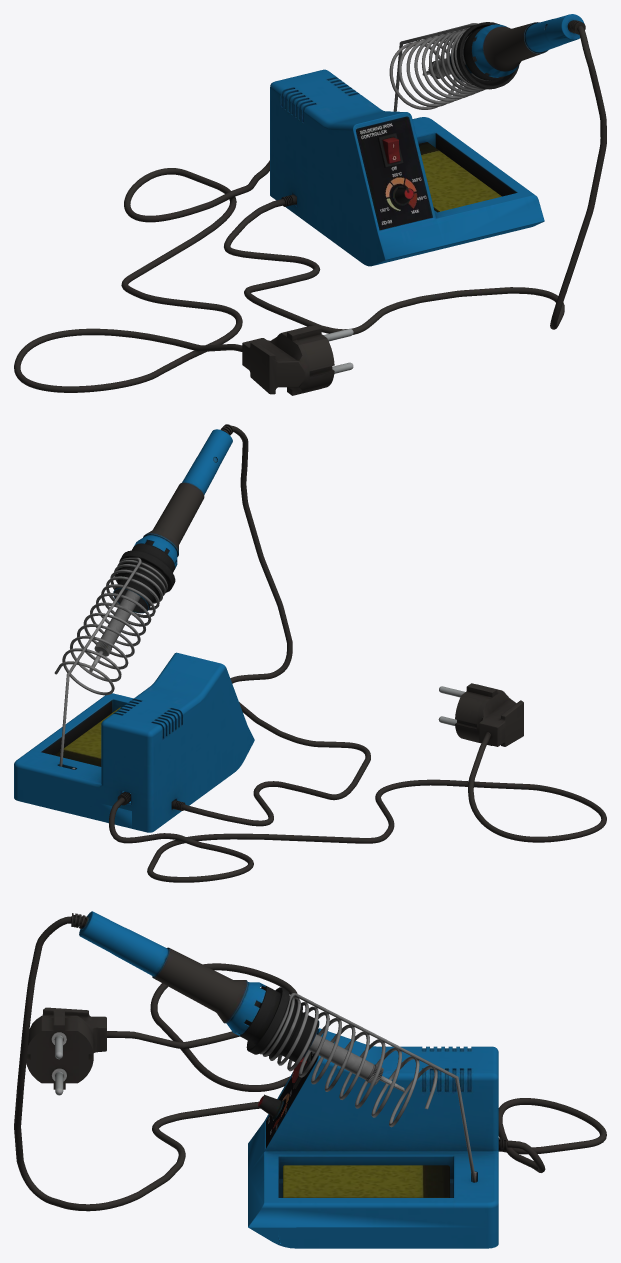
Rendered from soldering_iron_station.glb.
The picture shows the model from 3 angles, top to bottom: view 1: azimuth 30°, elevation 25°; view 2: azimuth 150°, elevation 25°; view 3: azimuth 270°, elevation 25°; orthographic projection. The views are drawn at different scales.
Visible parts, largest first — view 1: Object_2; view 2: Object_2; view 3: Object_2.
Boxes of the visible parts, x1,y1,x2,y2 form: Object_2: (14, 14, 606, 395); Object_2: (14, 424, 606, 882); Object_2: (14, 911, 606, 1248).
Size of the model in its own units: 36.99 by 19.43 by 33.04.
1 material, 1 textured.
